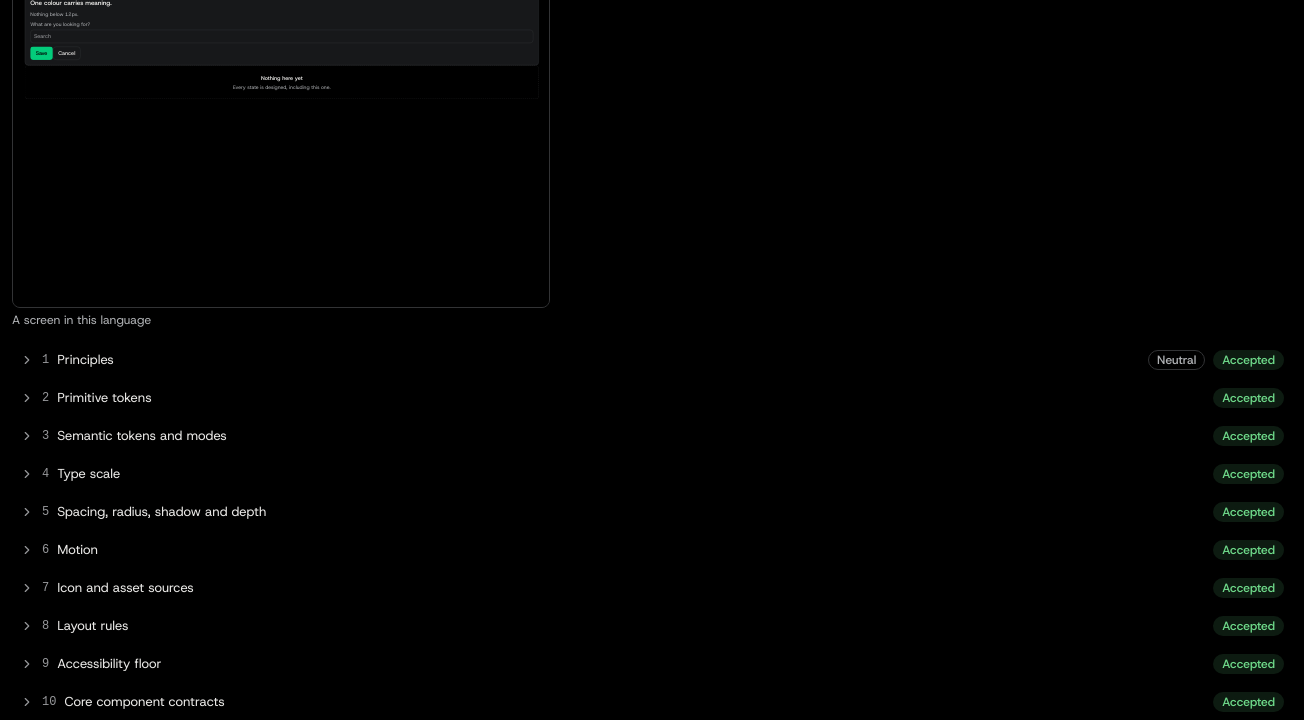
Test: the wizard › shows the ten steps in the contract's order, with the state and the neutral note
(page scrolled)
Click the button "1 Principles Neutral Accepted": (85, 360) [12, 344, 1292, 376]
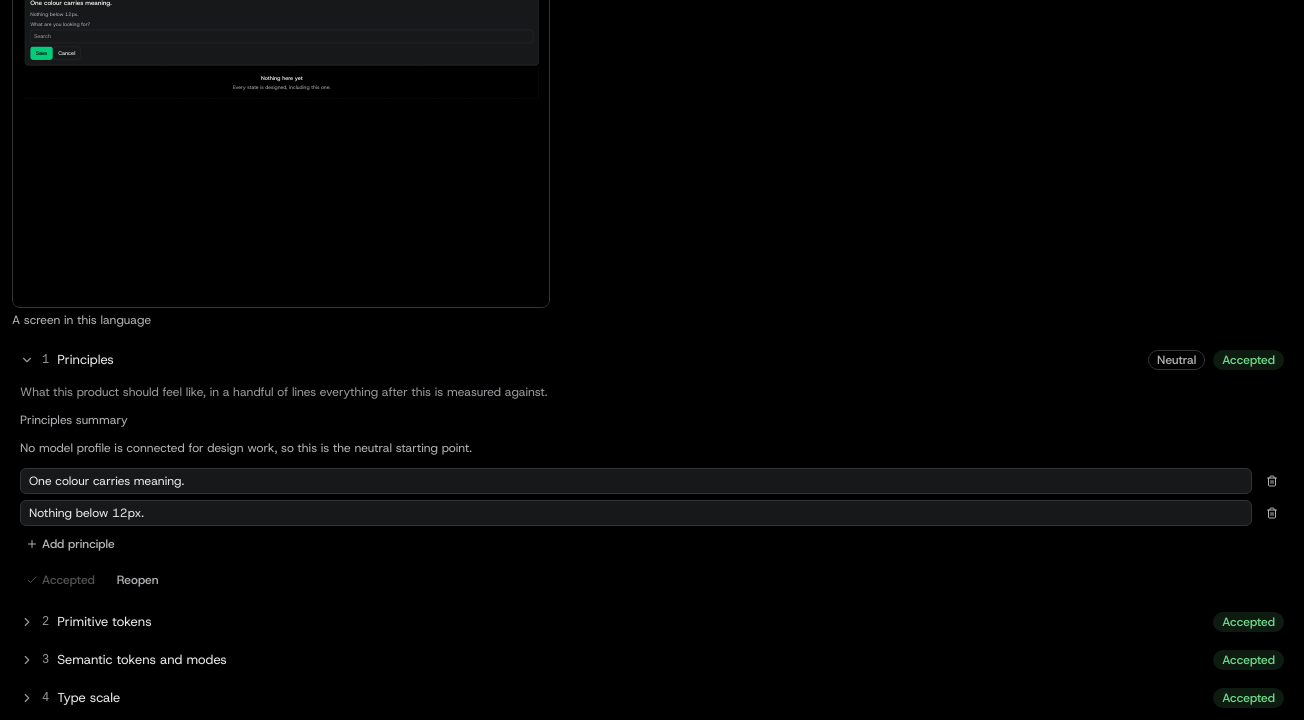
Expected: the text "neutral starting point" is shown, [20, 440, 472, 456]
